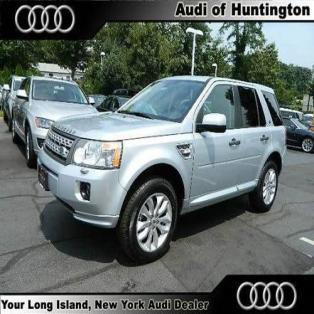Auto: (34, 72, 290, 264)
